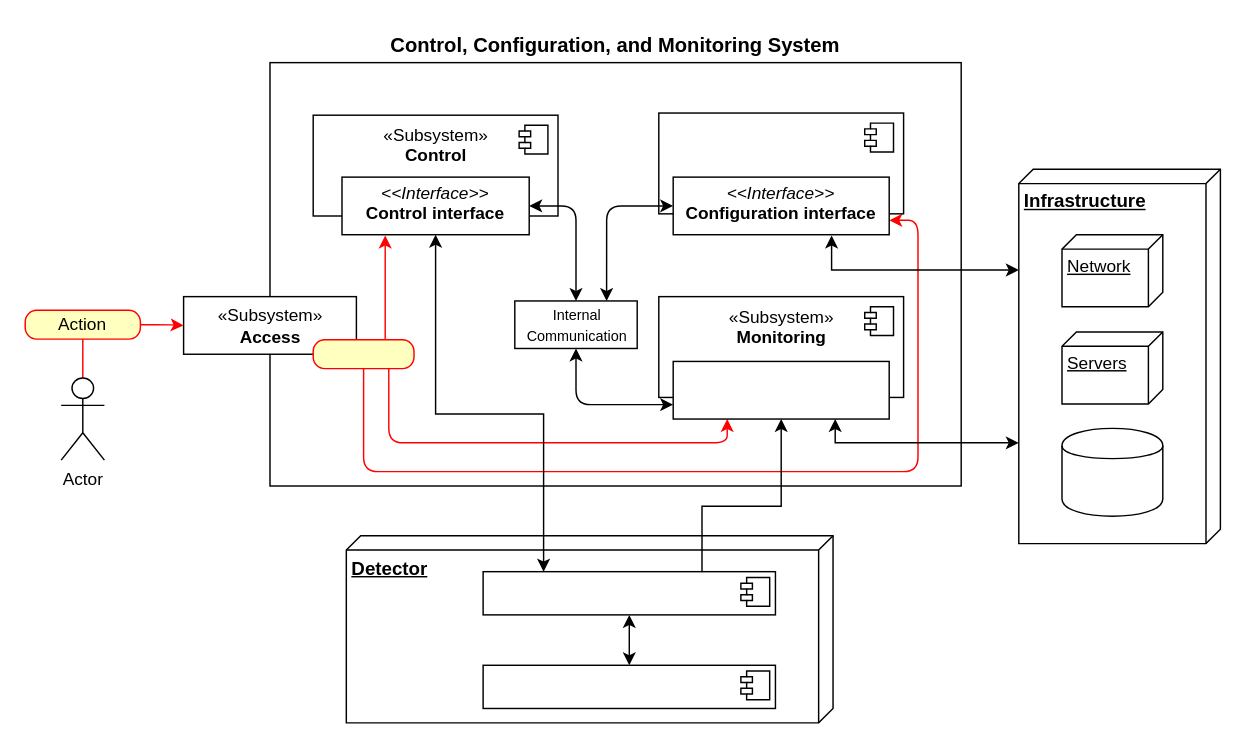
Some shapes in this 1246 by 747 pixel diagram are drawn without their labels. The box of each missing label's shape, as (x1, y1, x2, y2) in pixels:
<<Interface>> Monitoring interface: (672, 360, 889, 419)
Databases: (1061, 427, 1163, 516)
Delegate: (312, 338, 414, 369)
Hardware Components: (482, 664, 775, 708)
Software Layer: (482, 570, 775, 615)
«Subsystem» Configuration: (657, 112, 904, 214)
